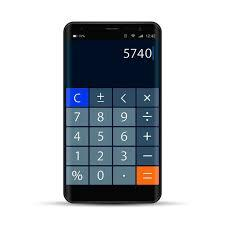Calculator: (60, 43, 162, 189)
